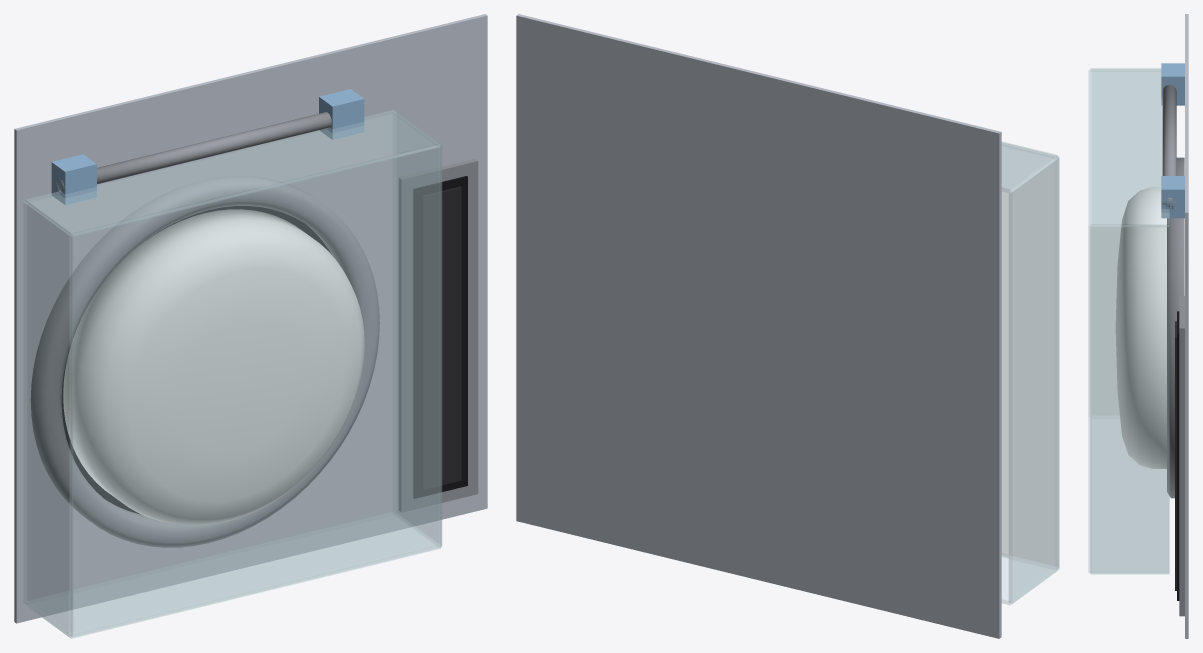
The model's file is button_module.glb.
3 renders of one model, left to right at view 1: azimuth 30°, elevation 25°; view 2: azimuth 150°, elevation 25°; view 3: azimuth 270°, elevation 25°, orthographic. The views are drawn at different scales.
Visible parts, largest first — view 1: cover_front, button_plate, part_button, button_collar, cover_left, cover_right, cover_bottom, cover_top, strip_light, button_strip_frame, button_strip_slot, button_hinge_rod (+3 smaller); view 2: button_plate, cover_front, cover_left, cover_top, cover_bottom; view 3: cover_right, cover_left, part_button, cover_top, cover_bottom, button_collar, button_plate, cover_front, button_strip_frame, button_hinge_rod, button_hinge_r, button_strip_slot (+2 smaller).
Boxes of the visible parts, <box> form: cover_front: <box>70,145,441,637</box>; button_plate: <box>14,14,487,623</box>; part_button: <box>63,209,364,525</box>; button_collar: <box>30,175,379,547</box>; cover_left: <box>23,201,72,636</box>; cover_right: <box>393,111,441,546</box>; cover_bottom: <box>25,512,440,638</box>; cover_top: <box>25,110,440,236</box>; strip_light: <box>422,186,461,489</box>; button_strip_frame: <box>399,158,478,512</box>; button_strip_slot: <box>413,176,467,498</box>; button_hinge_rod: <box>56,112,331,192</box>; button_plate: <box>516,14,1001,638</box>; cover_front: <box>1002,143,1058,569</box>; cover_left: <box>1009,157,1059,603</box>; cover_top: <box>1002,141,1057,192</box>; cover_bottom: <box>1002,553,1057,604</box>; cover_right: <box>1090,225,1169,573</box>; cover_left: <box>1090,69,1162,415</box>; part_button: <box>1115,187,1166,468</box>; cover_top: <box>1090,68,1169,226</box>; cover_bottom: <box>1090,418,1169,574</box>; button_collar: <box>1167,157,1184,498</box>; button_plate: <box>1185,14,1188,638</box>; cover_front: <box>1088,70,1091,572</box>; button_strip_frame: <box>1179,296,1184,616</box>; button_hinge_rod: <box>1162,85,1176,210</box>; button_hinge_r: <box>1161,176,1184,218</box>; button_strip_slot: <box>1177,311,1179,600</box>.
Size of the model in its own units: 0.743 by 0.74 by 0.158.
